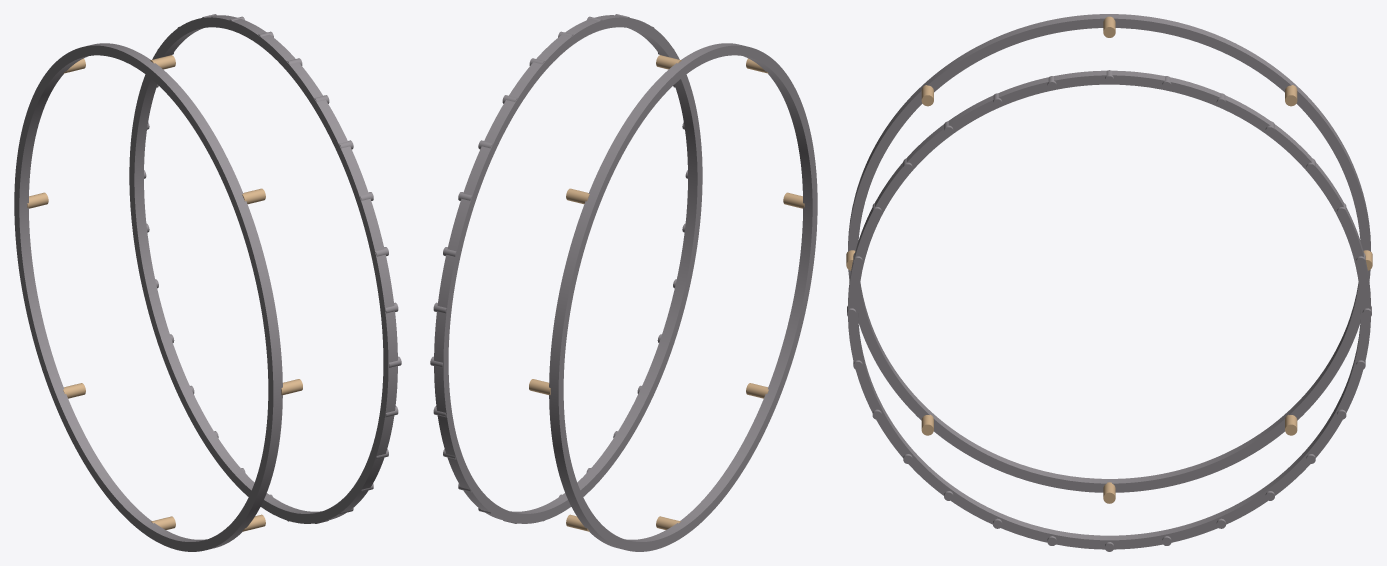
File: turbine-thermal-service.glb
The picture shows the model from 3 angles, left to right: view 1: azimuth 30°, elevation 25°; view 2: azimuth 150°, elevation 25°; view 3: azimuth 270°, elevation 25°; orthographic projection.
Parts seen in each view (by area): view 1: turbine-thermal-service - heat_shell, turbine-thermal-service - bronze; view 2: turbine-thermal-service - heat_shell, turbine-thermal-service - bronze; view 3: turbine-thermal-service - heat_shell, turbine-thermal-service - bronze.
Part boxes in pixels (x1=…): turbine-thermal-service - heat_shell: x1=14, y1=14, x2=401, y2=551; turbine-thermal-service - bronze: x1=27, y1=55, x2=302, y2=531; turbine-thermal-service - heat_shell: x1=430, y1=14, x2=817, y2=551; turbine-thermal-service - bronze: x1=529, y1=55, x2=804, y2=531; turbine-thermal-service - heat_shell: x1=847, y1=14, x2=1371, y2=551; turbine-thermal-service - bronze: x1=846, y1=16, x2=1372, y2=503.
Size of the model in its own units: 0.511 by 1.8 by 1.8.
